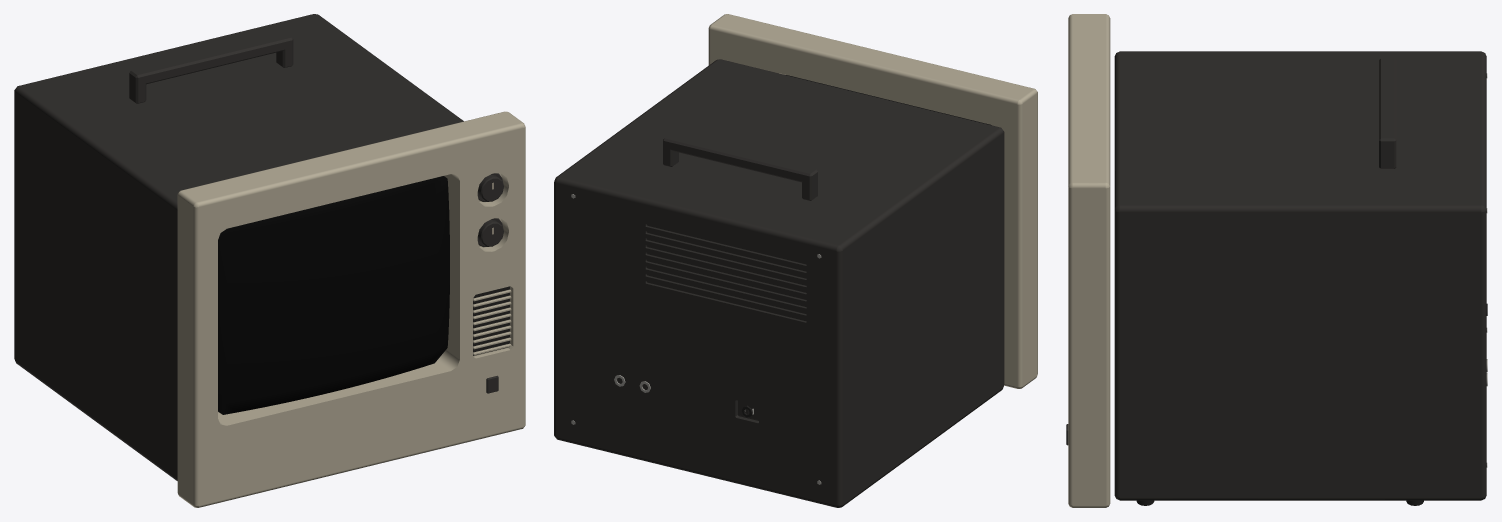
The model's file is bedroom-crt-14-26f64be1869d.glb.
3 renders of one model, left to right at view 1: azimuth 30°, elevation 25°; view 2: azimuth 150°, elevation 25°; view 3: azimuth 270°, elevation 25°, orthographic. The views are drawn at different scales.
Parts seen in each view (by area): view 1: plastic-dark, plastic-light, cover-glow, enamel-black; view 2: plastic-dark, plastic-light; view 3: plastic-dark, plastic-light.
Part boxes in pixels (x1,y1,x2,y2): plastic-dark: [14, 14, 503, 480]; plastic-light: [177, 111, 525, 507]; cover-glow: [218, 176, 449, 414]; enamel-black: [473, 286, 510, 355]; plastic-dark: [554, 59, 1004, 507]; plastic-light: [708, 14, 1037, 388]; plastic-dark: [1066, 51, 1486, 500]; plastic-light: [1068, 14, 1110, 507].
Size of the model in its own units: 0.37 by 0.34 by 0.383.
